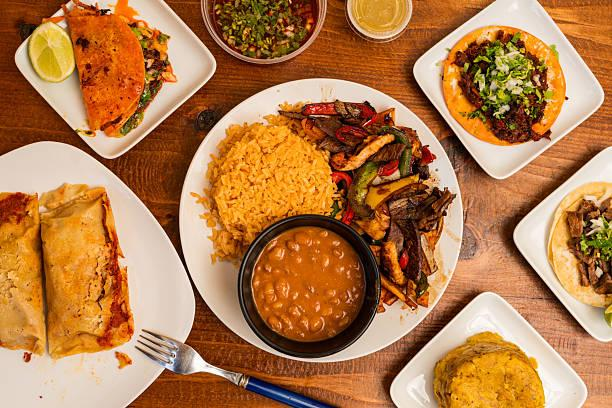Braised Crucian Carp: (179, 77, 453, 362), (2, 139, 193, 407), (413, 0, 601, 179), (12, 0, 212, 158), (390, 293, 585, 406), (513, 143, 612, 341), (201, 0, 325, 63)
